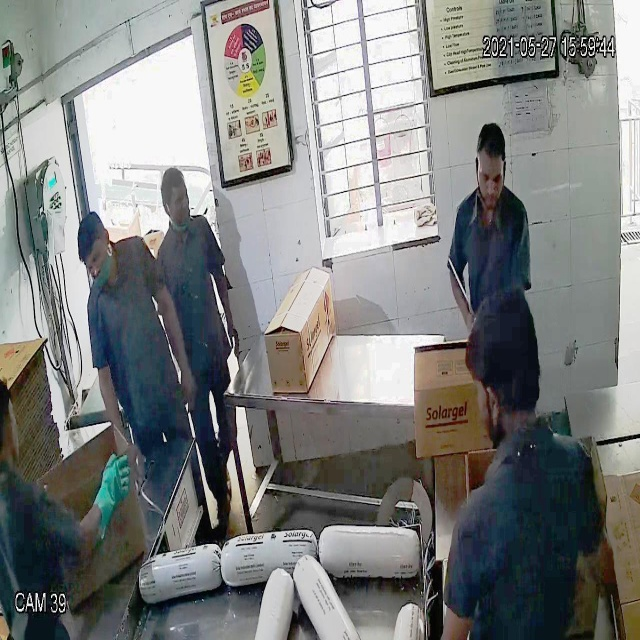Sin_gafas: (474, 164, 509, 193)
